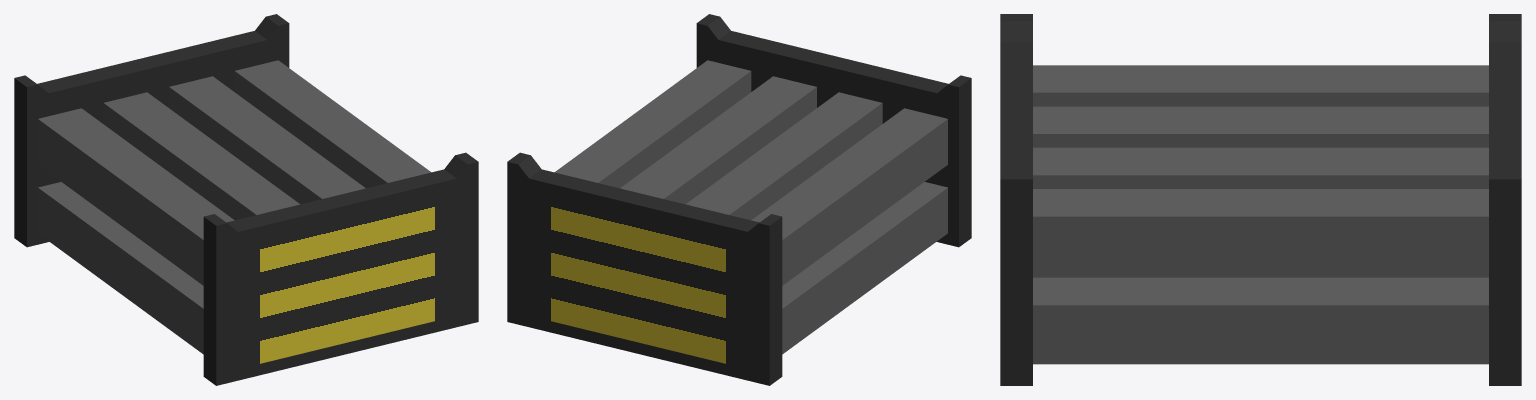
The model's file is PowerLine.fbx.
3 renders of one model, left to right at view 1: azimuth 30°, elevation 25°; view 2: azimuth 150°, elevation 25°; view 3: azimuth 270°, elevation 25°, orthographic. The views are drawn at different scales.
Parts seen in each view (by area): view 1: Holders, cube_6, cube_1, cube_4, cube_5, cube_7; view 2: Holders, cube_6, cube_1, cube_4, cube_5, cube_7; view 3: cube, cube_4, Holders, cube_5, cube_6, cube_7, cube_2.
Boxes of the visible parts, box(x1,y1,x2,y2) form: Holders: box(14, 14, 478, 385); cube_6: box(38, 108, 234, 285); cube_1: box(38, 182, 203, 354); cube_4: box(234, 60, 431, 188); cube_5: box(103, 92, 299, 220); cube_7: box(169, 76, 365, 204); Holders: box(507, 14, 971, 385); cube_6: box(751, 108, 947, 285); cube_1: box(782, 182, 947, 354); cube_4: box(554, 60, 751, 188); cube_5: box(686, 92, 882, 220); cube_7: box(620, 76, 816, 204); cube: box(1033, 277, 1488, 364); cube_4: box(1033, 189, 1488, 275); Holders: box(1000, 14, 1521, 385); cube_5: box(1033, 106, 1488, 147); cube_6: box(1033, 65, 1488, 106); cube_7: box(1033, 147, 1488, 188); cube_2: box(1033, 275, 1488, 277).
Bounding box in the file's own units: 75 × 43.75 × 100.
1 material, 1 textured.
